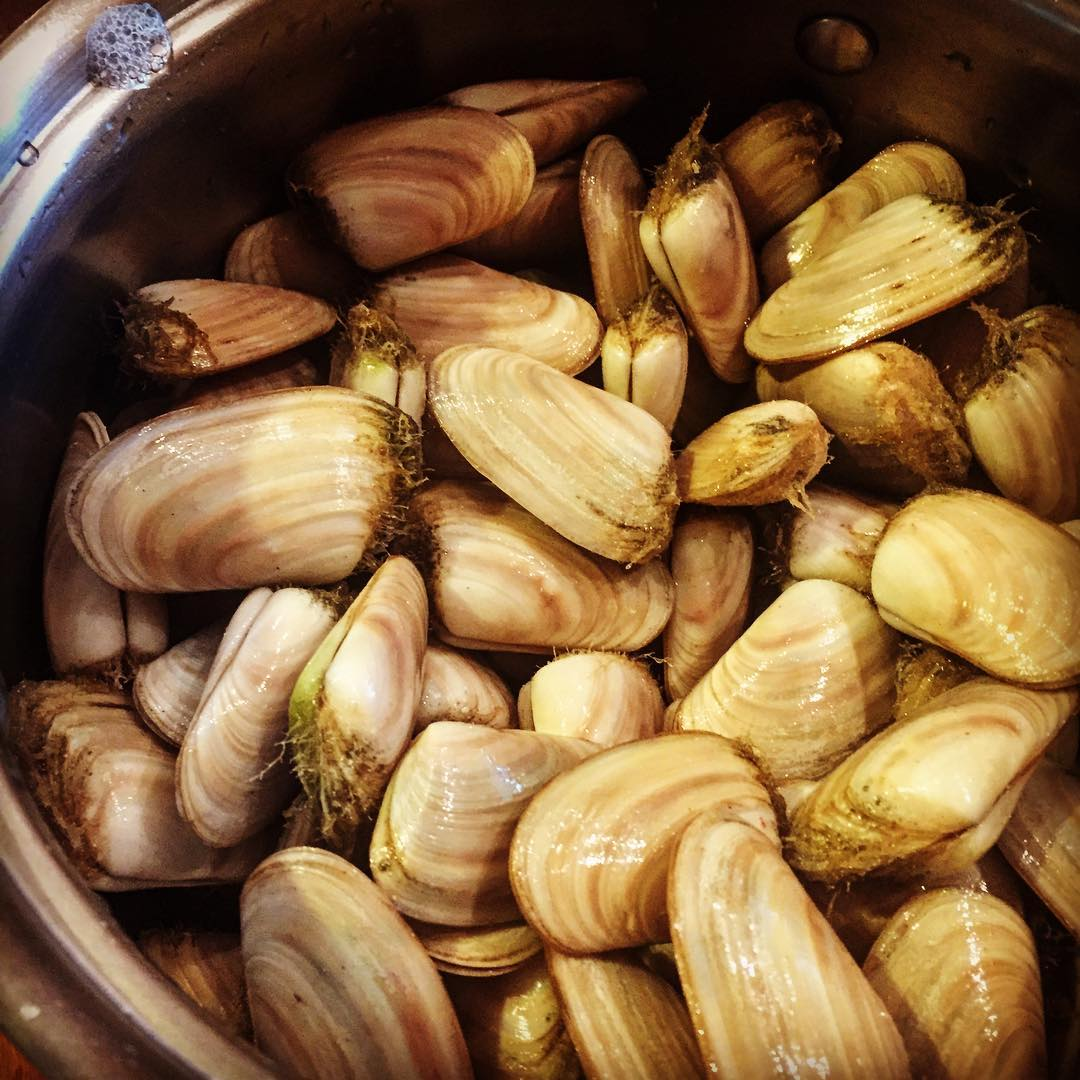tuatua: (64, 375, 404, 587), (494, 727, 786, 961), (662, 802, 903, 1080), (788, 665, 1077, 888), (231, 840, 476, 1080), (8, 672, 245, 903), (429, 341, 677, 558), (747, 189, 1028, 356), (415, 477, 677, 654), (671, 577, 900, 778), (866, 477, 1080, 691), (298, 95, 542, 270), (170, 585, 325, 860), (288, 544, 428, 843), (366, 722, 581, 915), (862, 889, 1053, 1080), (633, 123, 759, 388), (363, 247, 608, 374), (784, 340, 973, 498), (960, 340, 1080, 527), (119, 277, 339, 370), (673, 395, 832, 518), (446, 71, 643, 156), (571, 132, 653, 322)
